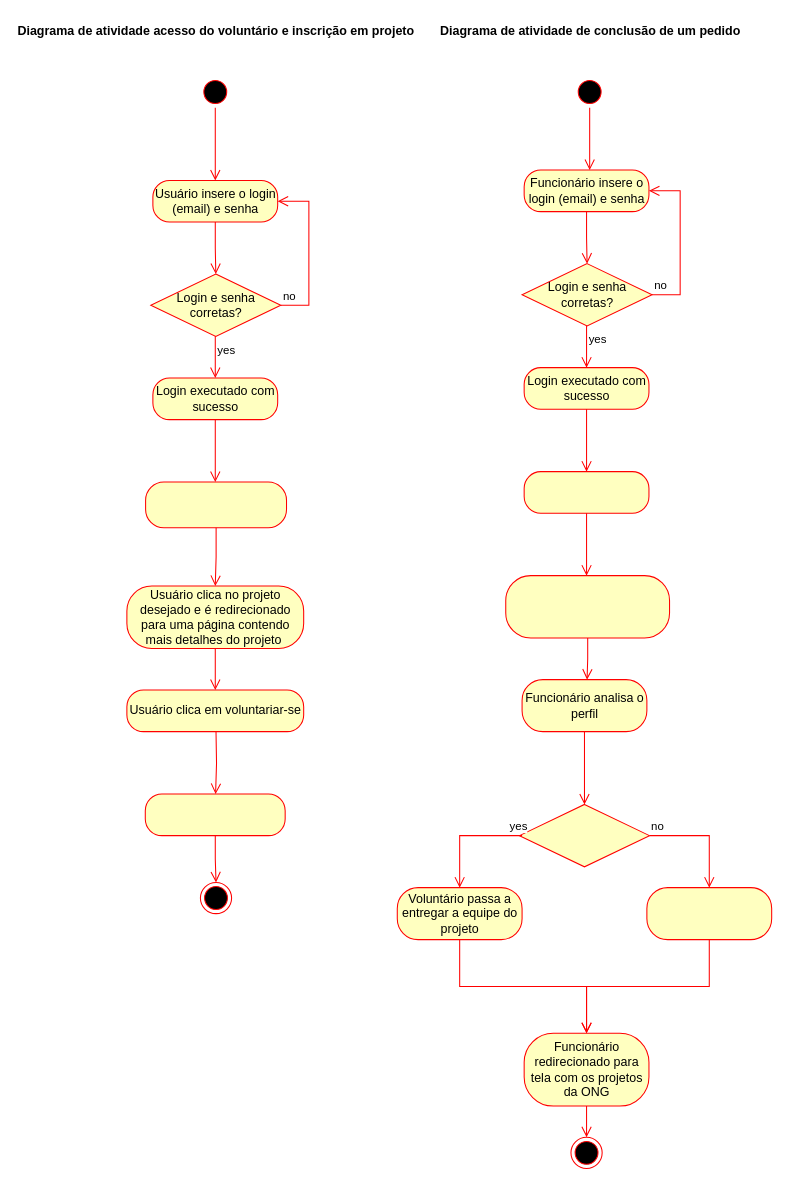
Image size: 790x1187. Some labels were removed from this diagram. The box of each missing label's shape, as (x1, y1, x2, y2) in pixels:
Funcionário abre a tela de voluntários pendentes: (505, 575, 670, 638)
Perfil aceito: (518, 803, 649, 867)
Tela com os projetos da ONG é exibida: (523, 471, 649, 513)
Tela inicial é exibida contendo os projetos que está elegível: (145, 481, 287, 528)
Usuario redirecionado para a home: (144, 793, 285, 836)
Voluntário sai da lista de voluntário do projeto: (646, 887, 772, 940)
